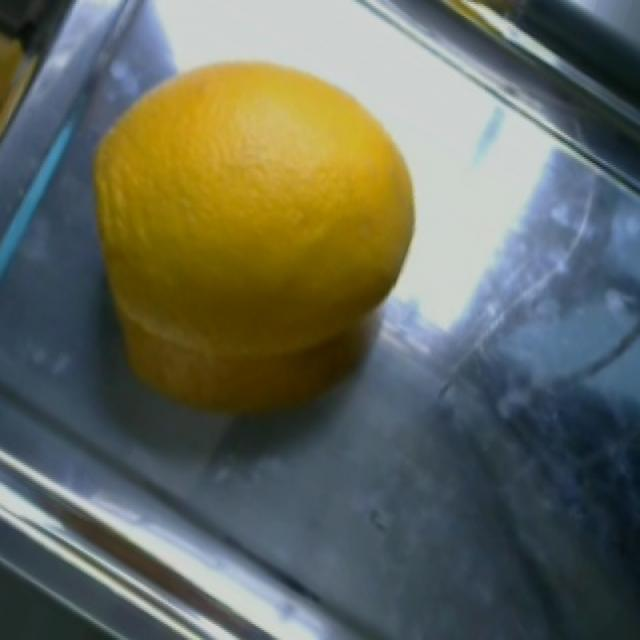Fruit: (70, 34, 426, 350), (0, 0, 53, 197)
